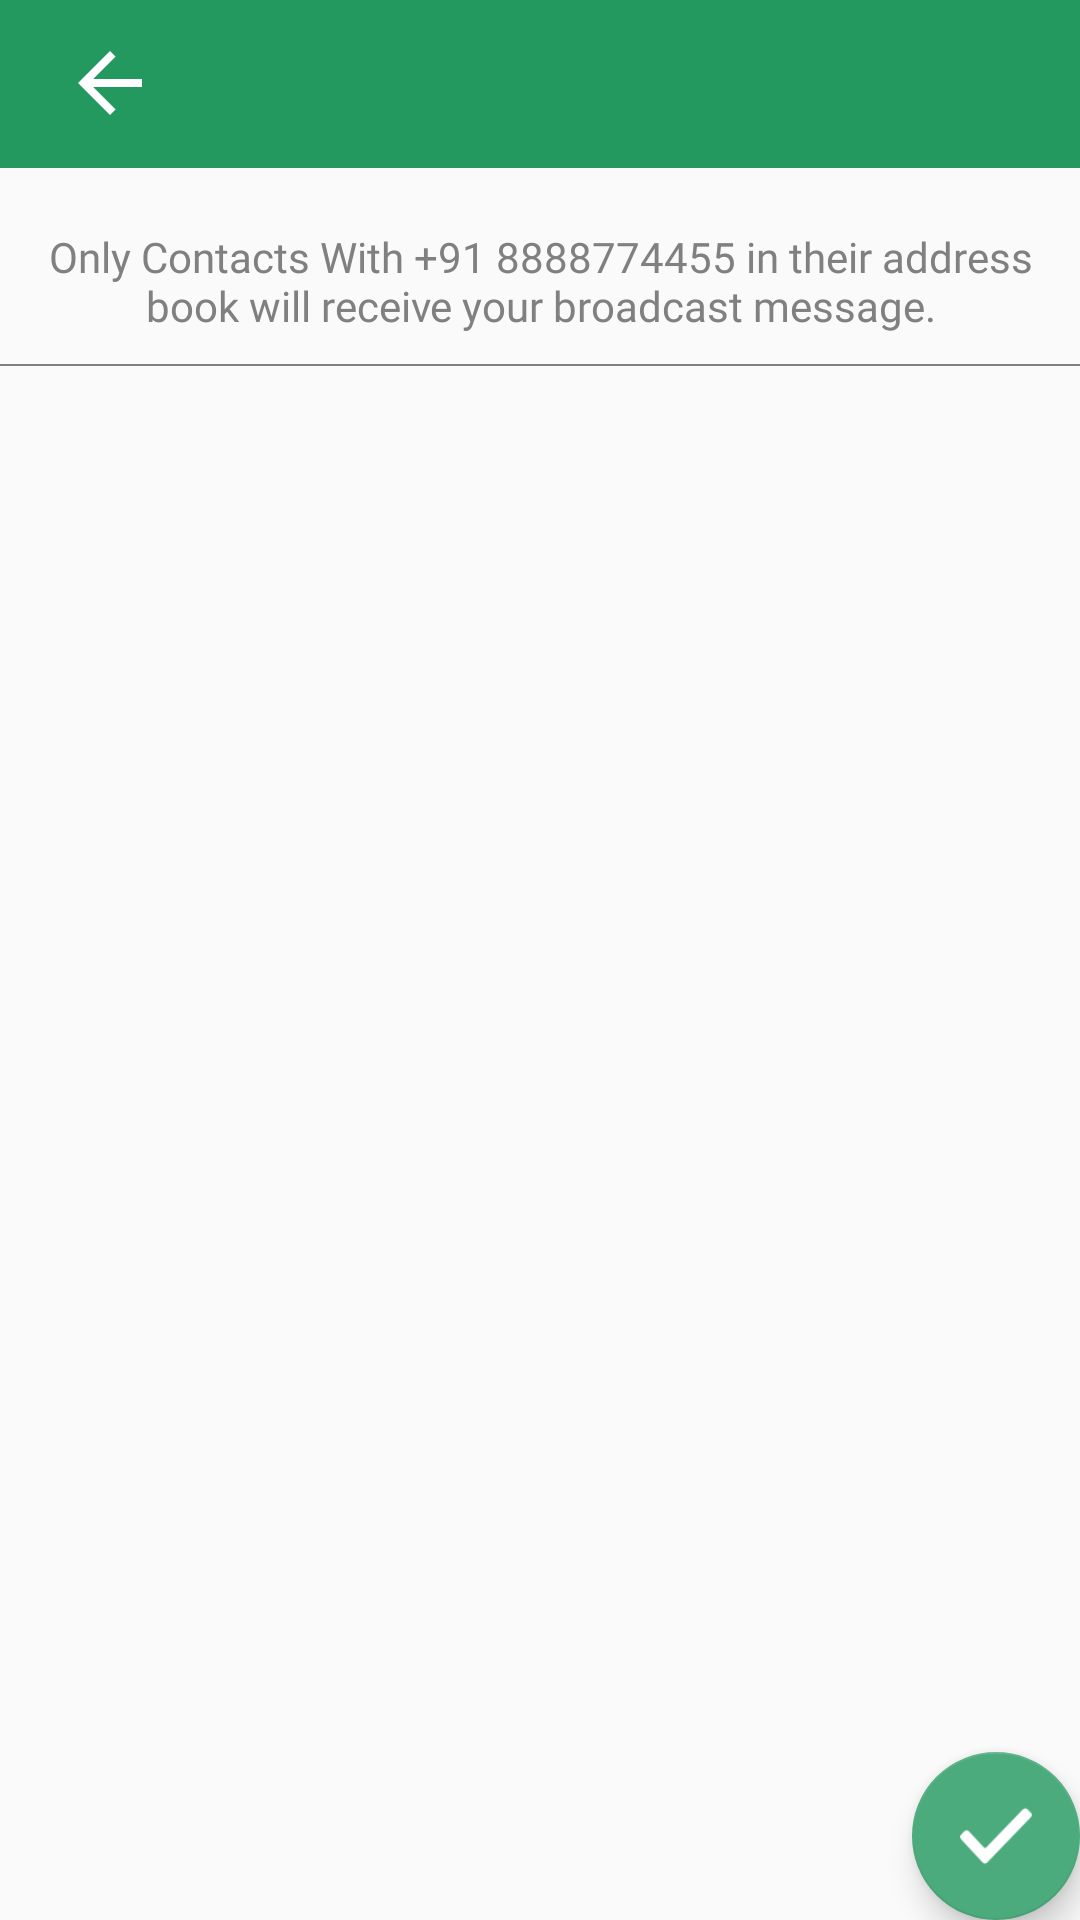

Icons on this 1080x1920 Android screen, each with the point to tap as (x,y):
back arrow: (110,83)
correct symbol: (996,1836)
